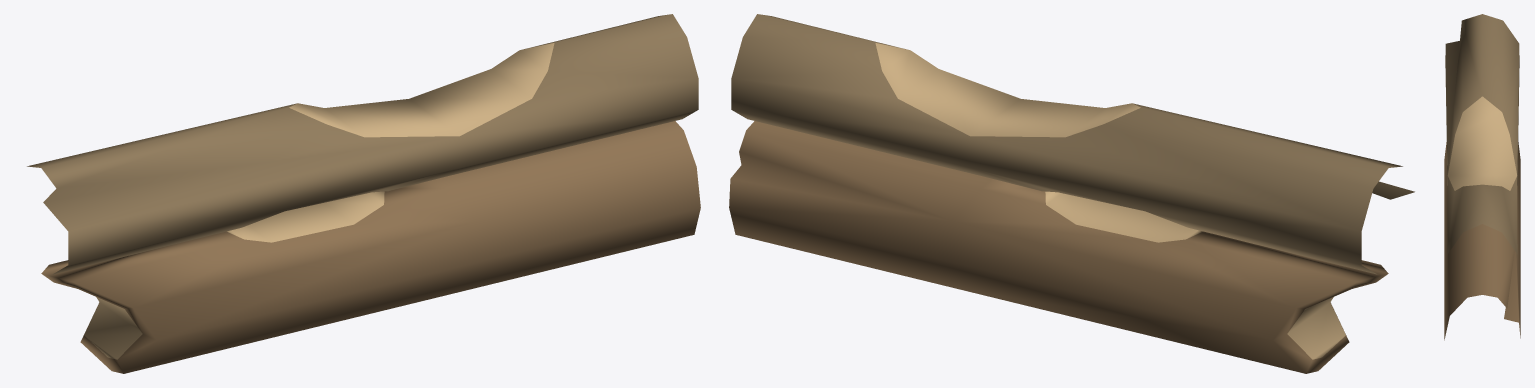
The model's file is rpgpp_av_wall_03_3x1_b.gltf.
3 views of the same model, side by side, from view 1: azimuth 30°, elevation 25°; view 2: azimuth 150°, elevation 25°; view 3: azimuth 270°, elevation 25° (orthographic). The views are drawn at different scales.
Visible parts, largest first — view 1: rpgpp_av_wall_03_3x1_b; view 2: rpgpp_av_wall_03_3x1_b; view 3: rpgpp_av_wall_03_3x1_b.
Boxes of the visible parts, bbox=[...] form: rpgpp_av_wall_03_3x1_b: bbox=[27, 14, 700, 373]; rpgpp_av_wall_03_3x1_b: bbox=[729, 14, 1414, 373]; rpgpp_av_wall_03_3x1_b: bbox=[1444, 14, 1520, 340].
Size of the model in its own units: 0.03 by 0.01 by 0.00463.
1 material, 1 textured.
